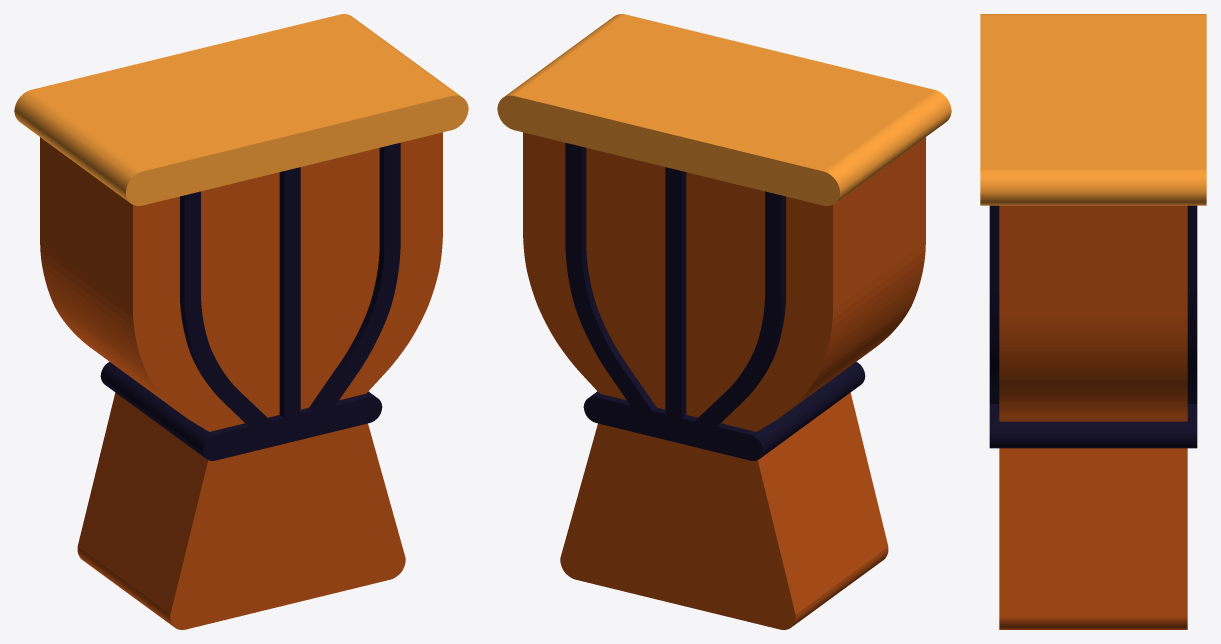
3 views of the same model, side by side, from view 1: azimuth 30°, elevation 25°; view 2: azimuth 150°, elevation 25°; view 3: azimuth 270°, elevation 25° (orthographic).
Visible parts, largest first — view 1: U+1FA98_layer00_obj00, U+1FA98_layer02_obj00, U+1FA98_layer01_obj00; view 2: U+1FA98_layer00_obj00, U+1FA98_layer02_obj00, U+1FA98_layer01_obj00; view 3: U+1FA98_layer00_obj00, U+1FA98_layer02_obj00, U+1FA98_layer01_obj00.
Part boxes in pixels (x1,y1,x2,y2): U+1FA98_layer00_obj00: (40,132,442,629); U+1FA98_layer02_obj00: (14,14,468,205); U+1FA98_layer01_obj00: (100,142,400,460); U+1FA98_layer00_obj00: (523,132,925,629); U+1FA98_layer02_obj00: (497,14,951,205); U+1FA98_layer01_obj00: (565,142,865,460); U+1FA98_layer00_obj00: (999,205,1187,629); U+1FA98_layer02_obj00: (980,14,1206,205); U+1FA98_layer01_obj00: (989,205,1197,448).
Size of the model in its own units: 0.4262 by 0.5677 by 0.24.
